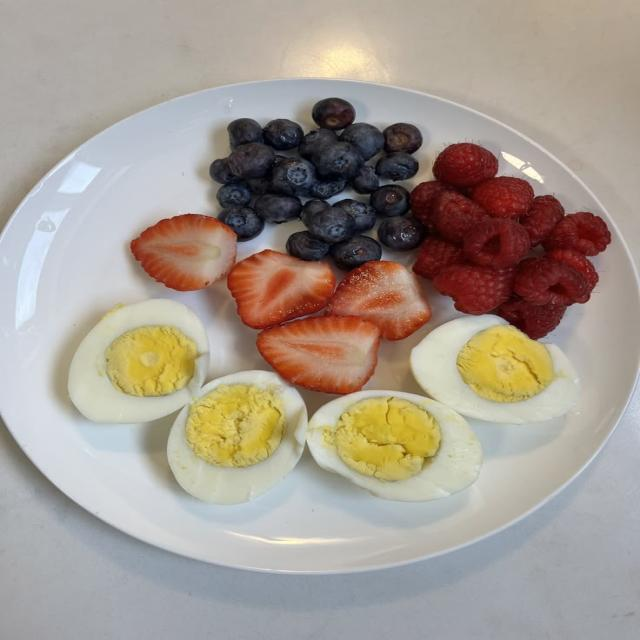blueberry: (311, 142, 363, 179), (330, 236, 380, 270), (307, 207, 354, 243), (378, 215, 425, 251), (271, 158, 316, 195), (229, 143, 275, 179), (340, 123, 383, 160), (218, 207, 263, 241), (334, 198, 376, 234), (254, 193, 302, 223), (311, 99, 354, 129), (370, 185, 409, 217), (298, 128, 337, 160), (287, 231, 330, 260), (263, 119, 303, 149), (383, 123, 422, 153), (376, 152, 417, 180), (228, 118, 263, 149), (350, 165, 379, 194), (217, 183, 251, 207), (301, 199, 330, 225), (210, 158, 238, 184)
egg boiled: (307, 391, 482, 501), (167, 370, 307, 504), (410, 315, 579, 424), (68, 299, 208, 423)
raspberry: (433, 263, 514, 314), (515, 258, 589, 305), (463, 218, 530, 268), (431, 191, 488, 243), (543, 212, 610, 256), (497, 297, 566, 339), (433, 143, 497, 187), (472, 176, 533, 219), (410, 180, 461, 230), (544, 249, 598, 294), (413, 234, 463, 279), (520, 196, 563, 247)
strawberry sliced: (258, 316, 380, 394), (227, 249, 335, 329), (325, 261, 430, 340), (130, 213, 236, 291)
